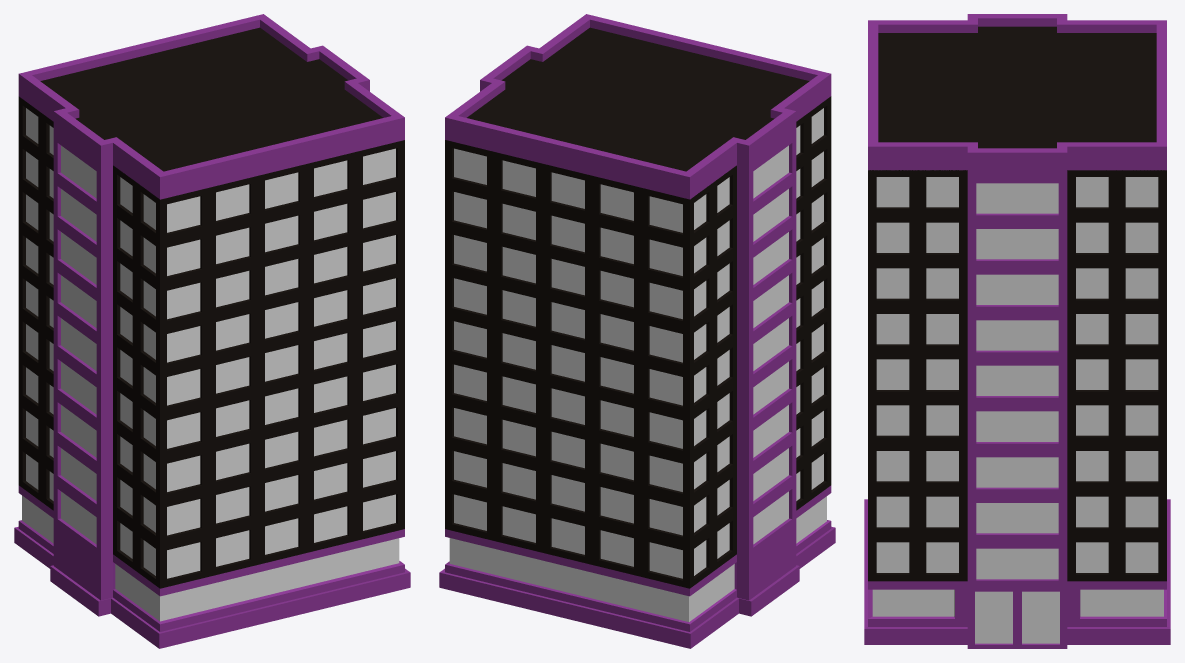
The model's file is gedung tinggi 1.fbx.
The picture shows the model from 3 angles, left to right: view 1: azimuth 30°, elevation 25°; view 2: azimuth 150°, elevation 25°; view 3: azimuth 270°, elevation 25°; orthographic projection. The views are drawn at different scales.
Parts seen in each view (by area): view 1: Cube.471; view 2: Cube.471; view 3: Cube.471.
Part boxes in pixels (x1,y1,x2,y2): Cube.471: (14,14,410,648); Cube.471: (439,14,835,648); Cube.471: (864,14,1170,648).
Bounding box in the file's own units: 75.85 × 125 × 70.05.
